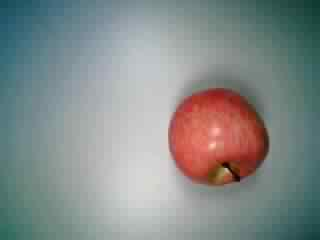apple: (165, 84, 270, 186)
